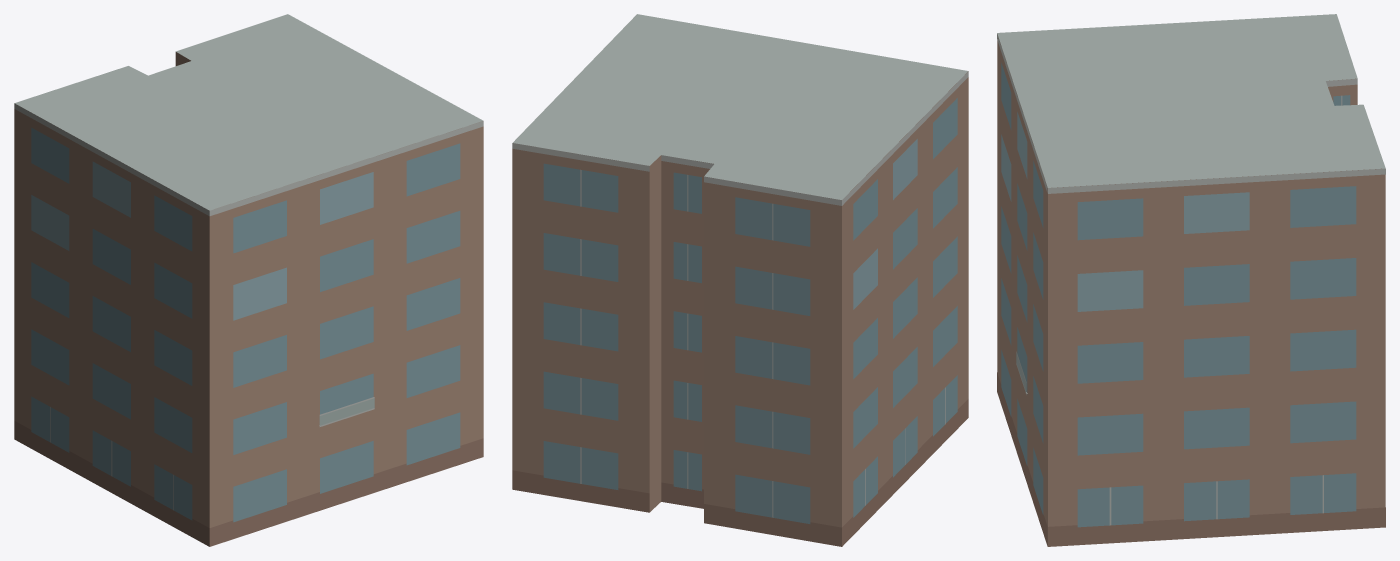
The model's file is survey-upis-32524525.glb.
3 views of the same model, side by side, from view 1: azimuth 30°, elevation 25°; view 2: azimuth 150°, elevation 25°; view 3: azimuth 270°, elevation 25° (orthographic). The views are drawn at different scales.
Parts seen in each view (by area): view 1: survey-upis-32524525.tmp; view 2: survey-upis-32524525.tmp; view 3: survey-upis-32524525.tmp.
Boxes of the visible parts, bbox=[...] form: survey-upis-32524525.tmp: bbox=[14, 14, 483, 546]; survey-upis-32524525.tmp: bbox=[512, 14, 968, 546]; survey-upis-32524525.tmp: bbox=[997, 14, 1385, 546].
Size of the model in its own units: 15.14 by 14.55 by 14.29.
